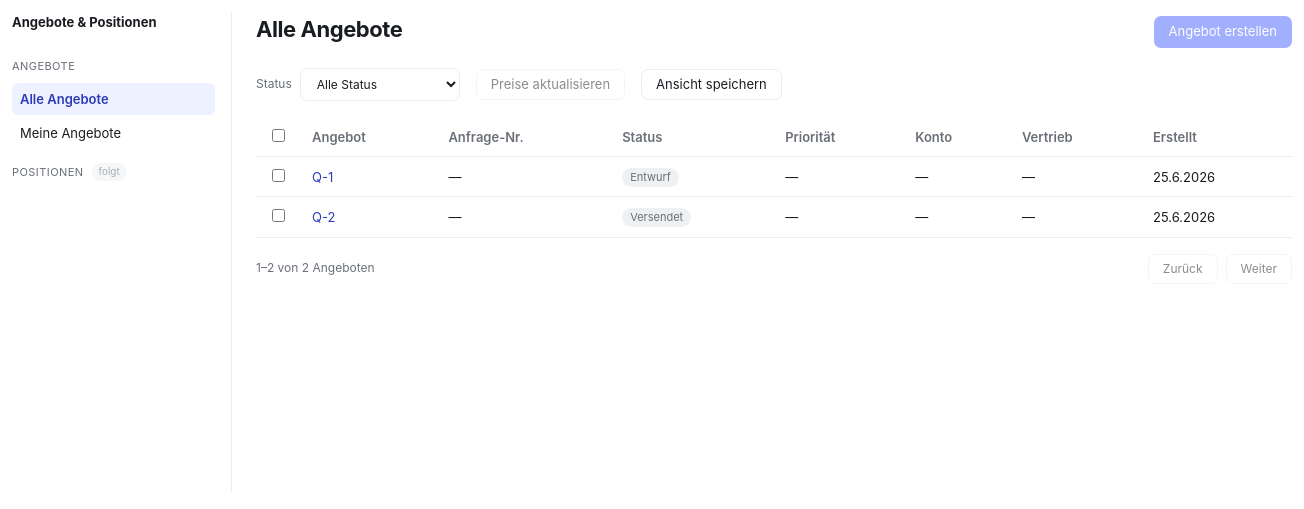
Test: QuotesPage › narrows rows when a status filter is applied
Expected: the link "Q-2" is shown, [312,209,335,225]
Select "Entwurf" in the dropdown labelled "Status" at (380, 85), box [300,68,460,101]
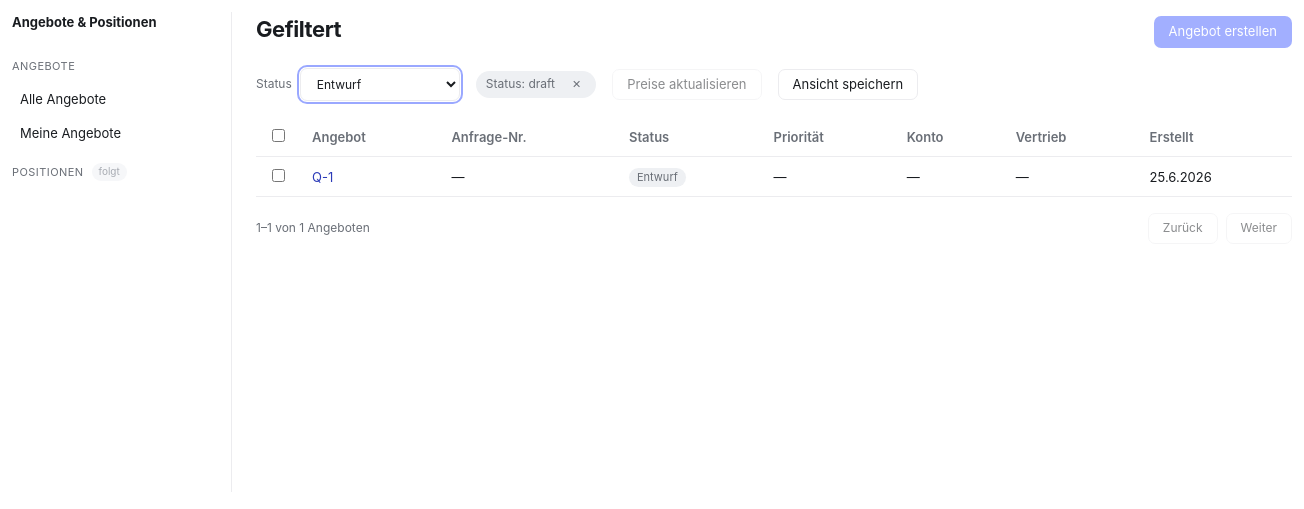
Expected: the link "Q-1" is shown, [312,169,333,185]
Now the link "Q-2" is gone
